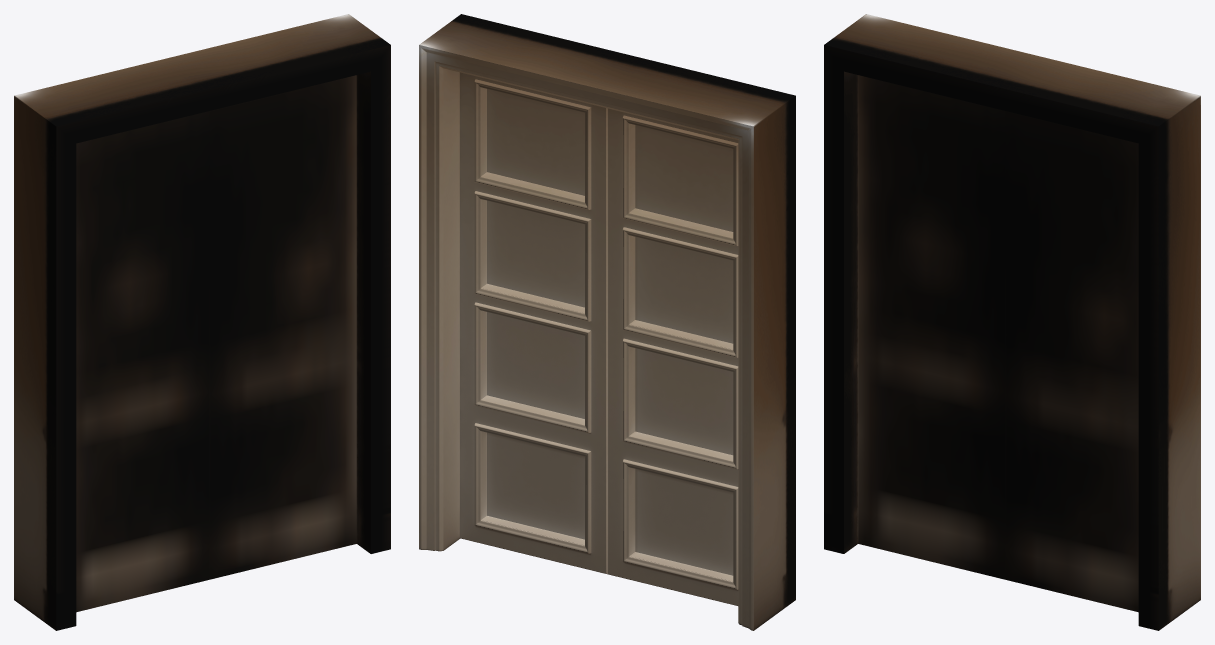
The model's file is Museum_EntryDoor.FBX.
3 views of the same model, side by side, from view 1: azimuth 30°, elevation 25°; view 2: azimuth 150°, elevation 25°; view 3: azimuth 330°, elevation 25° (orthographic).
Visible parts, largest first — view 1: Museum_EntryDoor; view 2: Museum_EntryDoor; view 3: Museum_EntryDoor.
Boxes of the visible parts, x1,y1,x2,y2 form: Museum_EntryDoor: [14, 14, 390, 630]; Museum_EntryDoor: [419, 14, 795, 630]; Museum_EntryDoor: [824, 14, 1200, 630].
Size of the model in its own units: 1600 by 2305 by 349.
1 material, 1 textured.
